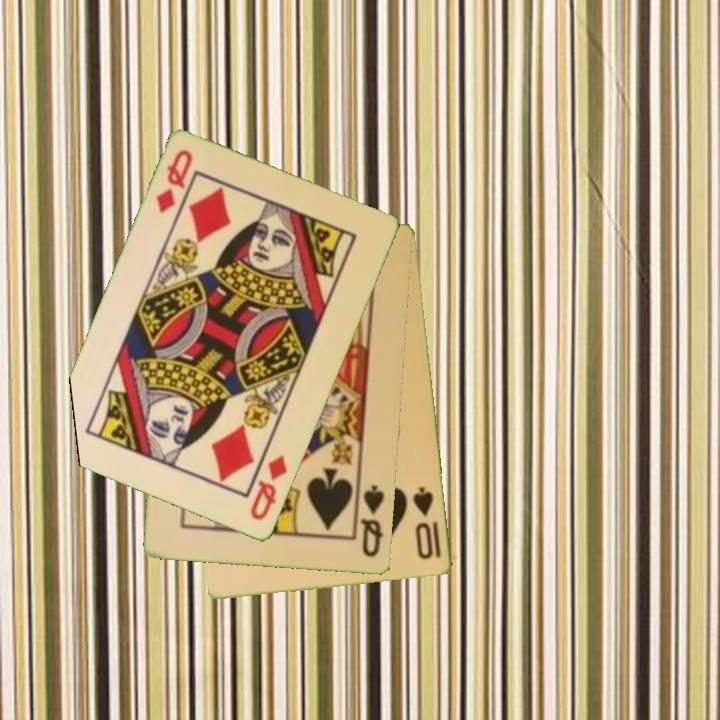10s: (410, 483, 444, 563)
Qd: (247, 451, 291, 524), (152, 146, 196, 217)
Qs: (357, 482, 388, 561)
